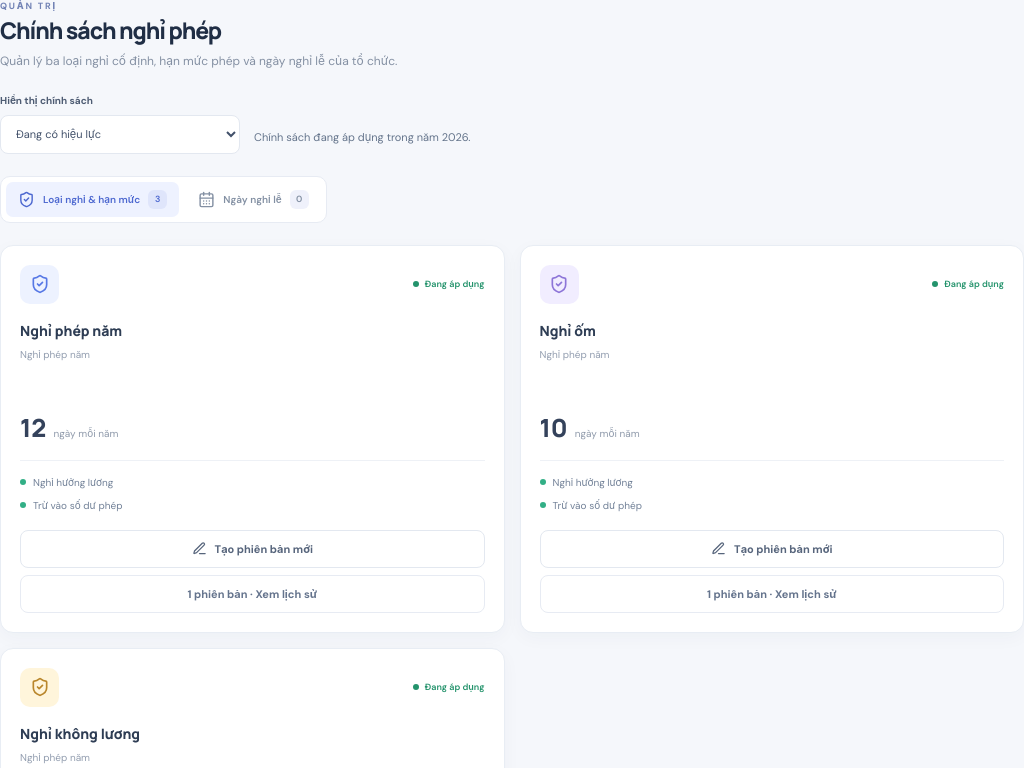
PoliciesPage › sets a future policy version to the first day of its policy year
This screenshot has width=1024, height=768.
Step 1. Click the button "Tạo phiên bản mới" below "12" → (252, 548), box [20,530,484,568]
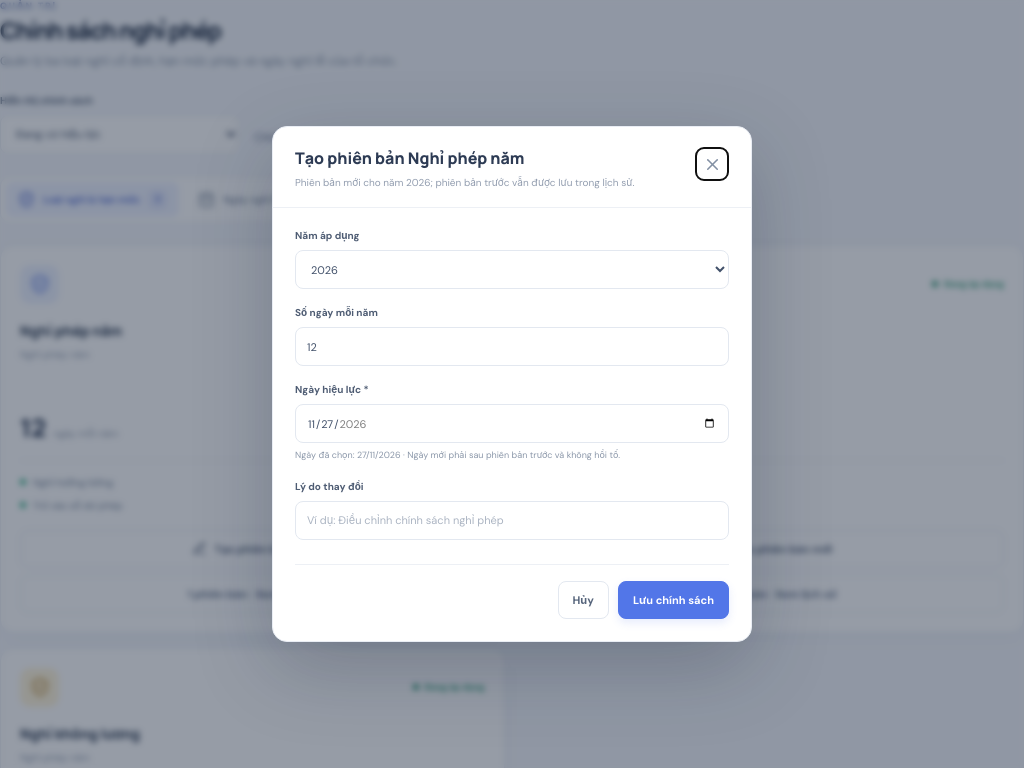
Step 2. Select "2027" in the dropdown labelled "Năm áp dụng" → (512, 270), box [295,250,729,289]
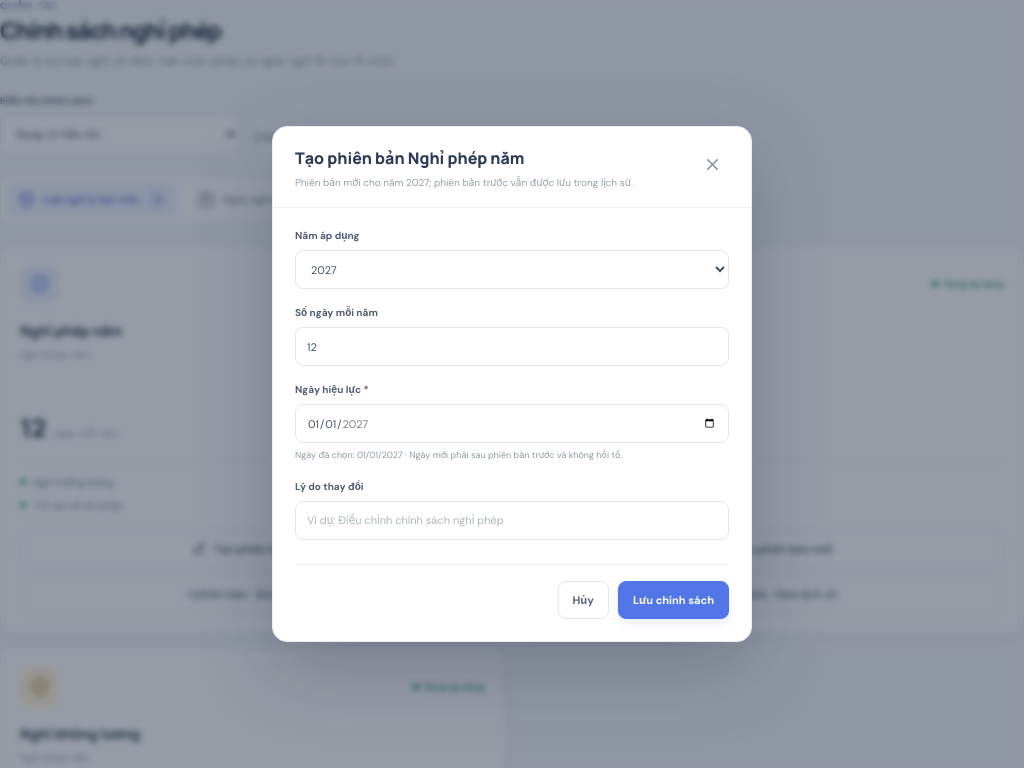
Result: the date field labelled "Ngày hiệu lực *" holds "2027-01-01" at [295,404,729,443]
